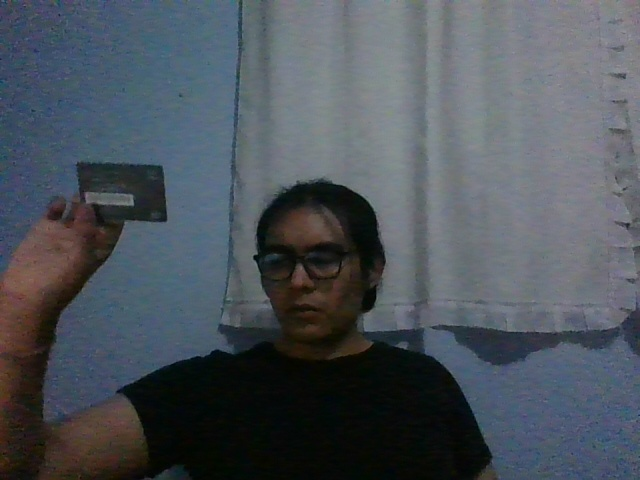tarjeta: (74, 160, 168, 223)
